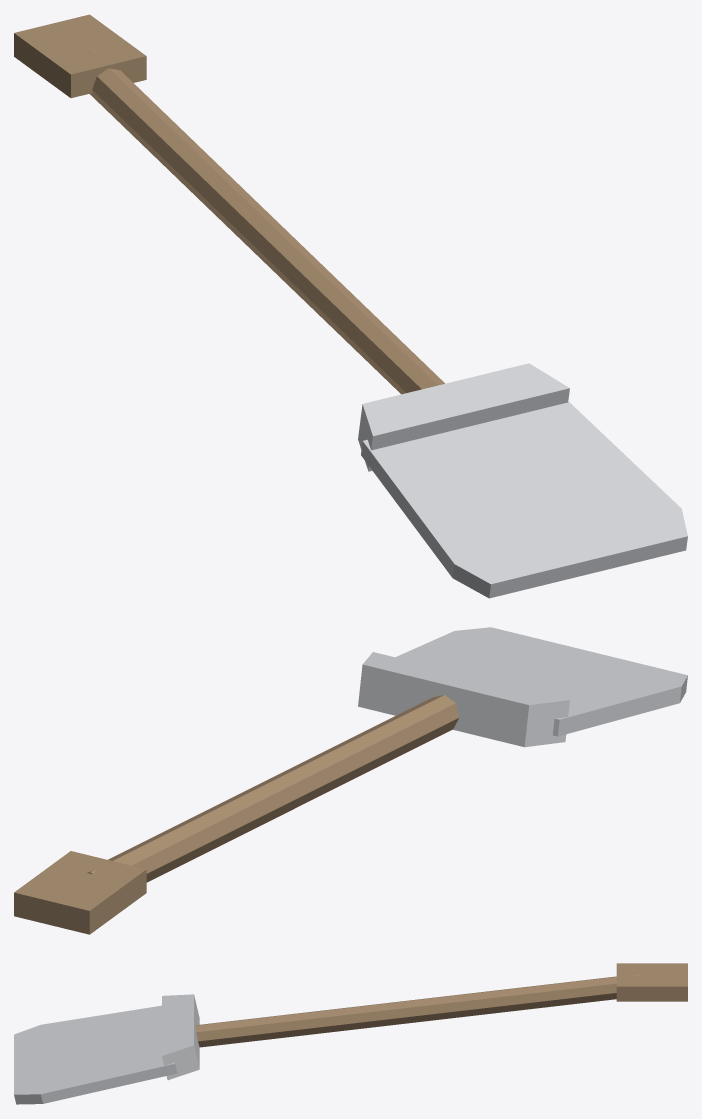
Rendered from steam-era-railway-and-rolling-stock-coal-shovel-e216c2c2.glb.
3 views of the same model, one above another, from view 1: azimuth 30°, elevation 25°; view 2: azimuth 150°, elevation 25°; view 3: azimuth 270°, elevation 25° (orthographic). The views are drawn at different scales.
Parts seen in each view (by area): view 1: coal-shovel; view 2: coal-shovel; view 3: coal-shovel.
Part boxes in pixels (left/top/right/bottom): coal-shovel: left=14, top=14, right=687, bottom=598; coal-shovel: left=14, top=627, right=687, bottom=934; coal-shovel: left=14, top=963, right=687, bottom=1104.
Bounding box in the file's own units: 0.3 × 0.2018 × 1.23.
